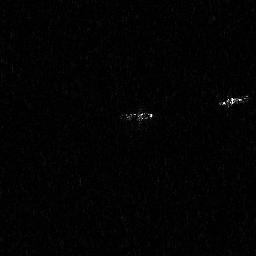ship: (119, 107, 155, 131), (217, 93, 249, 111)
